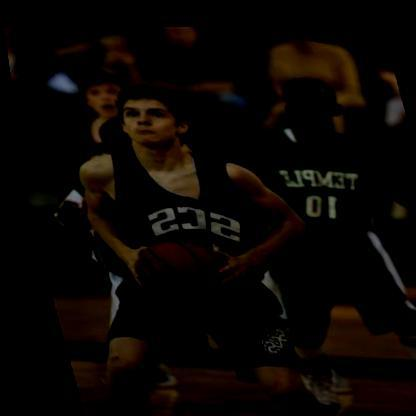basketball: (121, 224, 233, 312)
